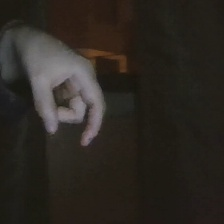Q: (8, 10, 113, 151)
